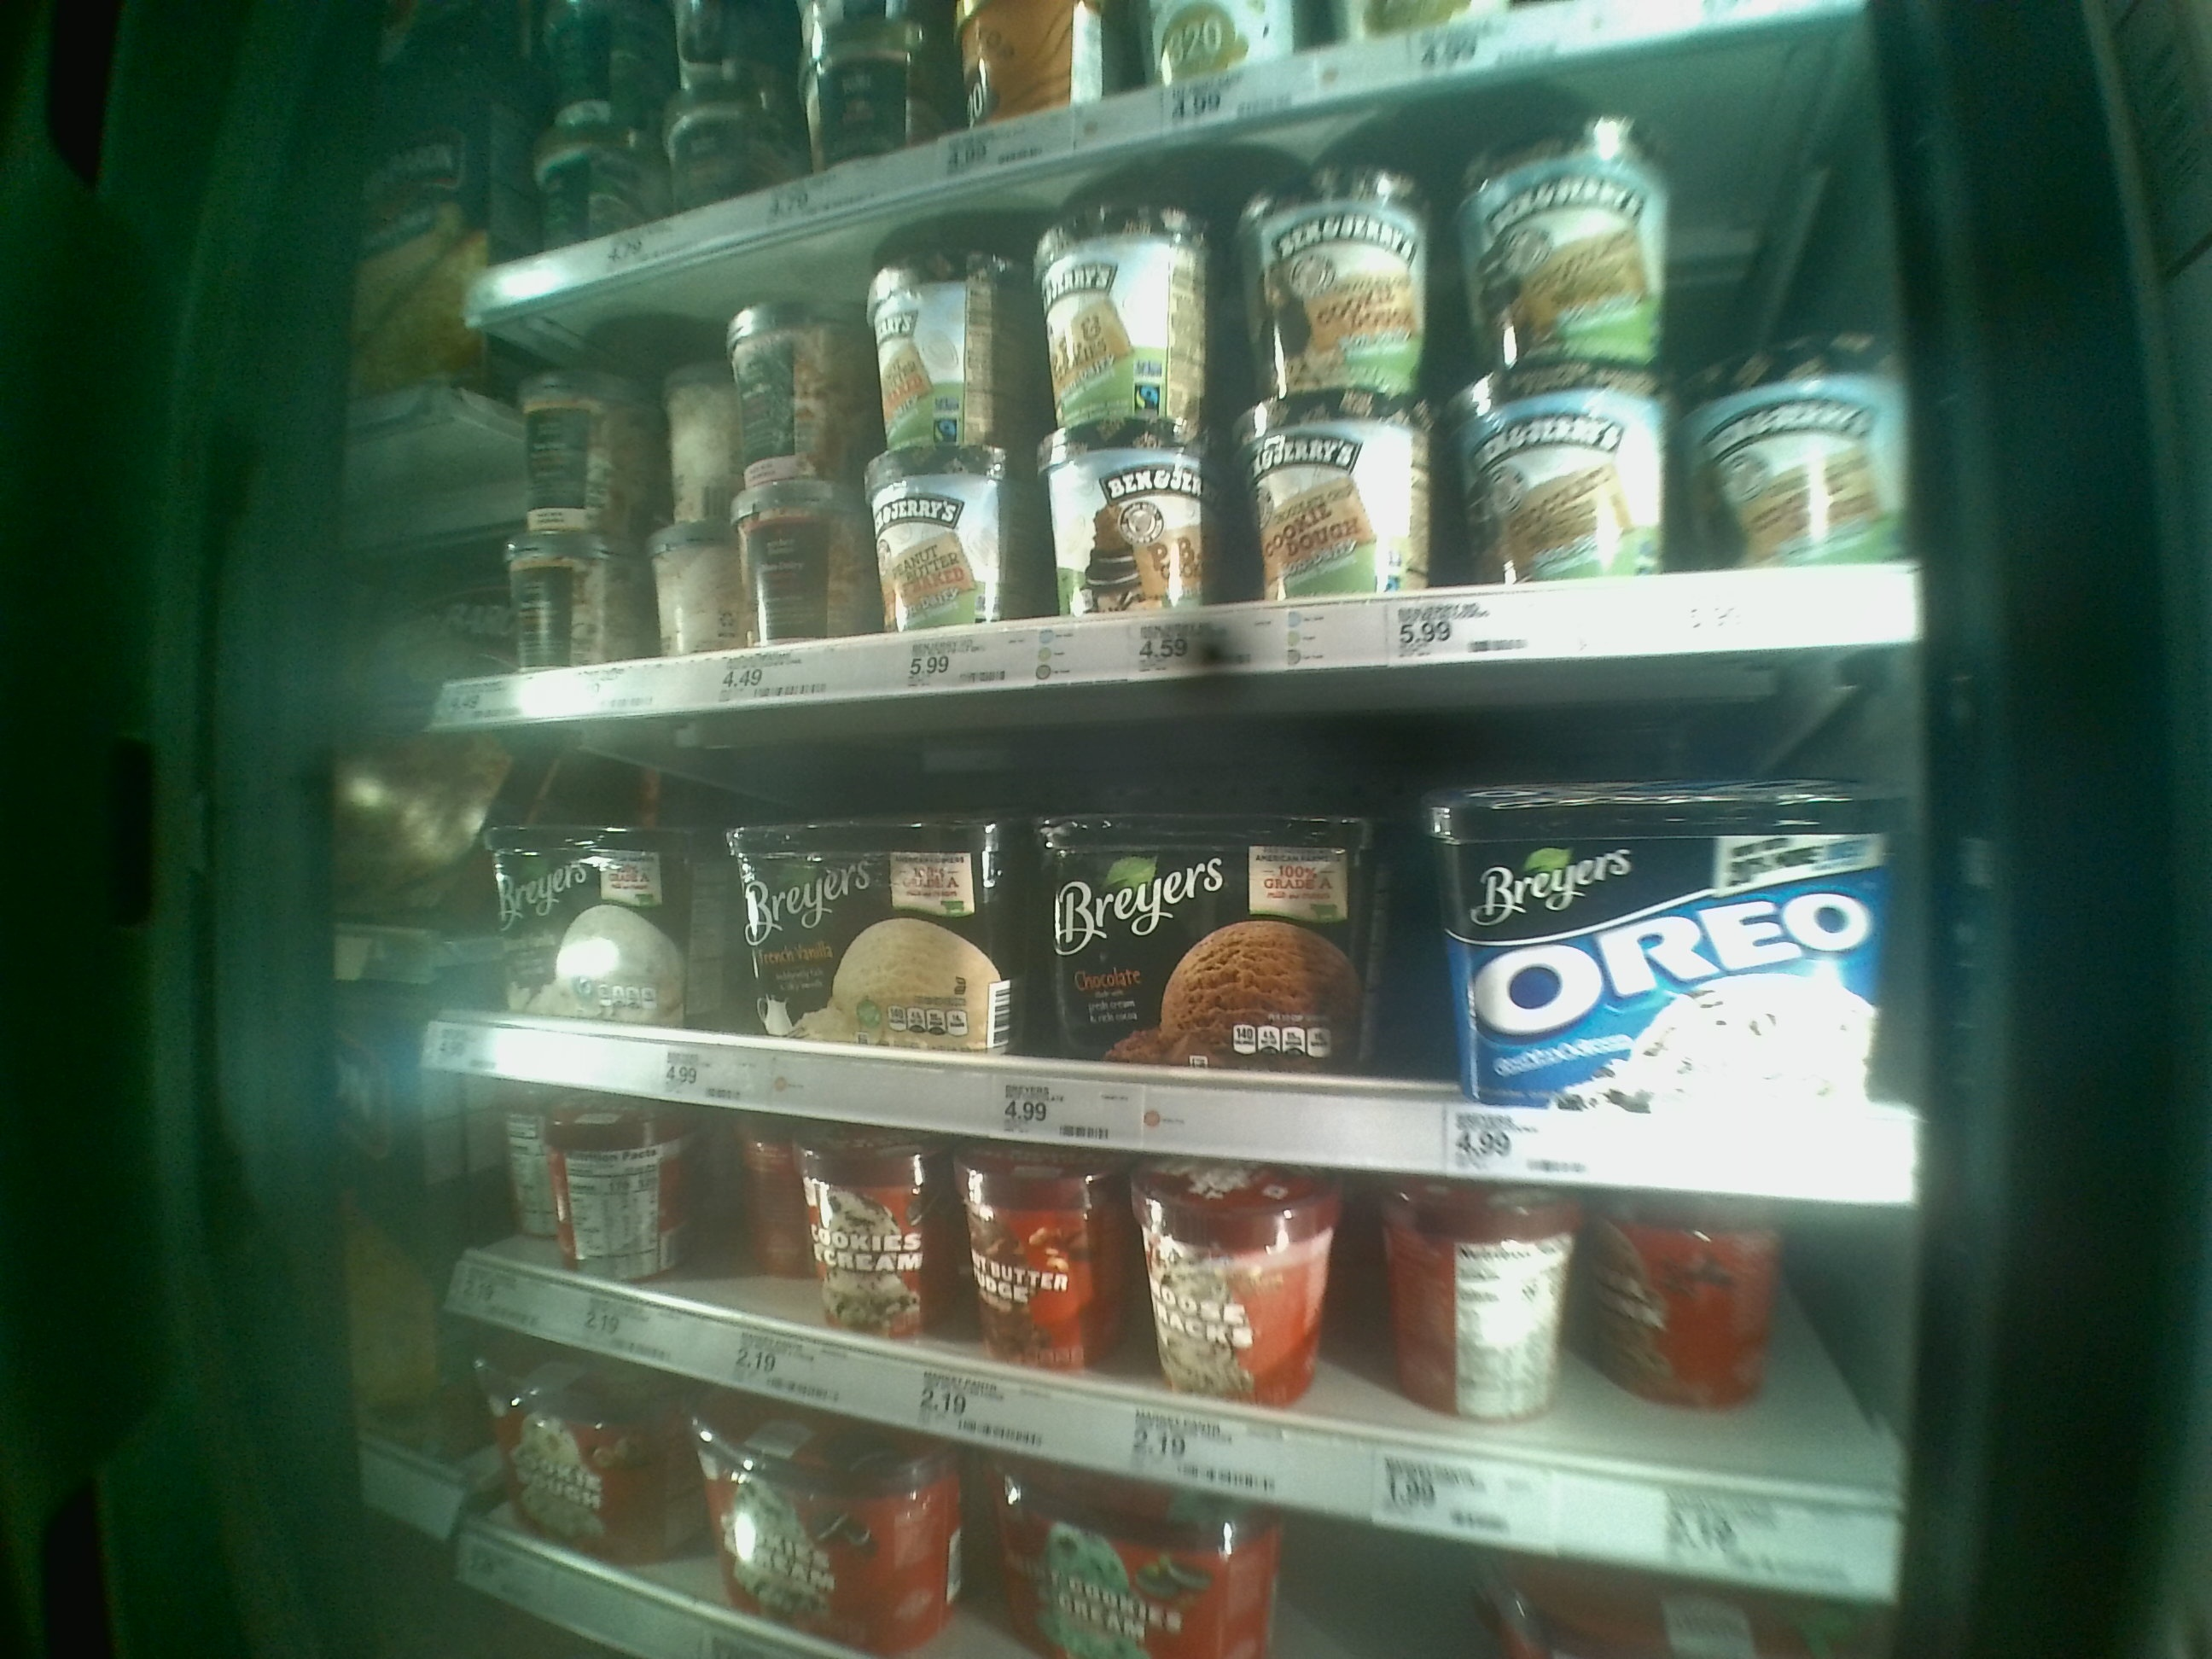shelf: (439, 652, 1928, 1211), (432, 1063, 1900, 1600)
